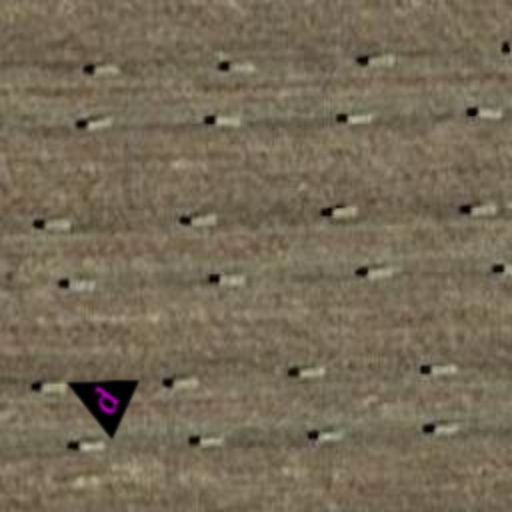triangle: (50, 350, 142, 442)
